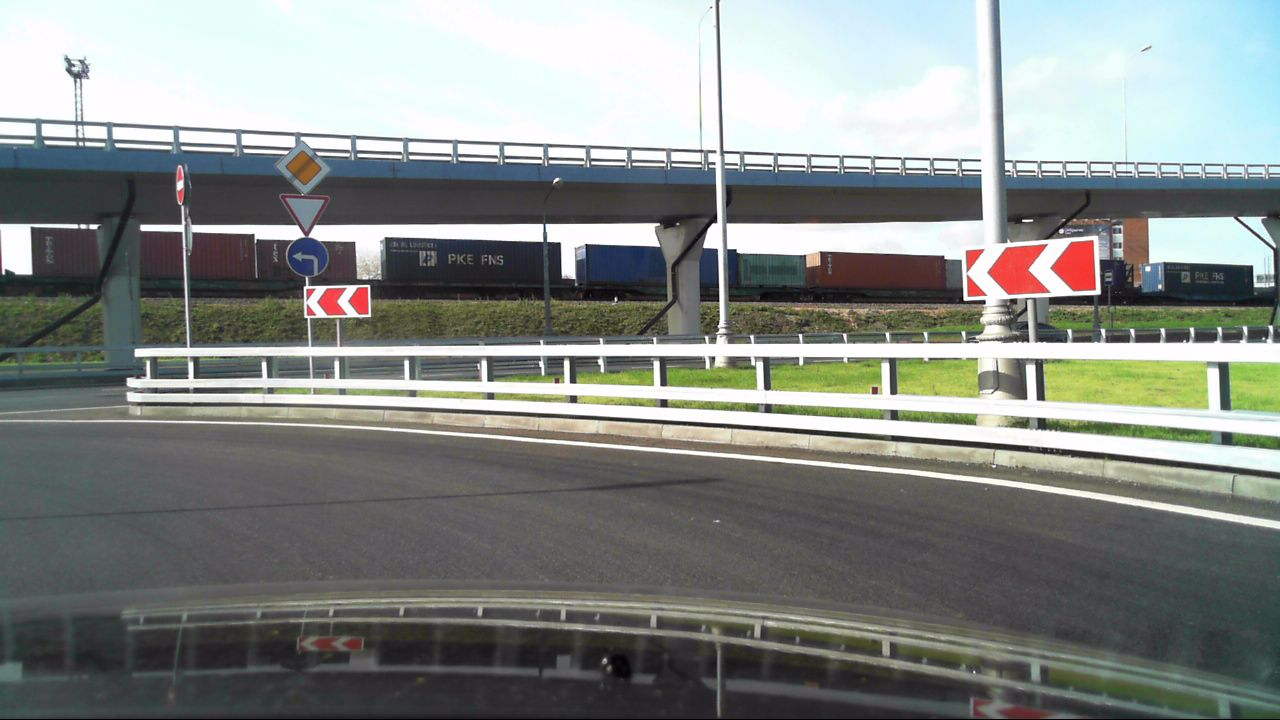main road: (271, 138, 334, 195)
